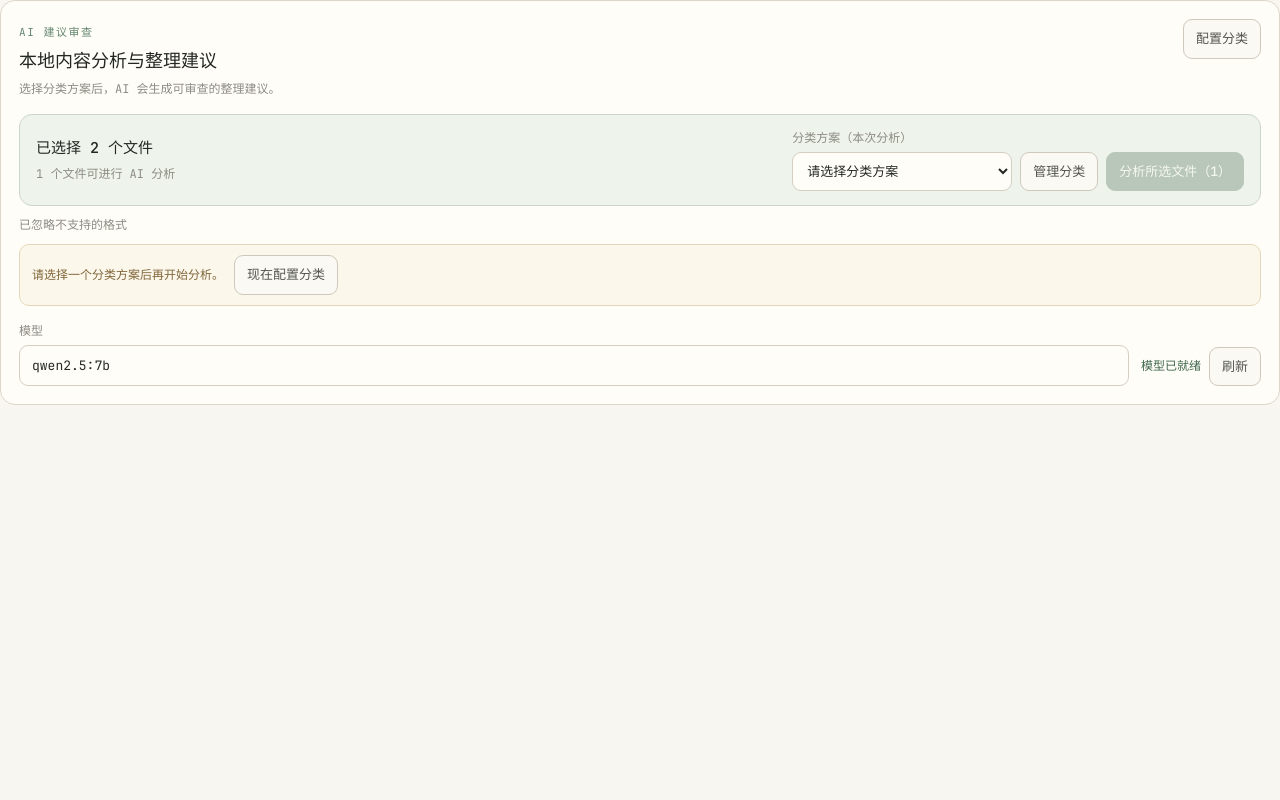
Test: opens category configuration from the missing-category guidance
Expected: the text "模型已就绪" is shown, [1141,357,1201,375]
Expected: the button "分析所选文件（1）" is disabled, [1106,152,1244,191]
Step 1. Click the button "现在配置分类" → (286, 275), box [234,255,338,294]
(page scrolled)
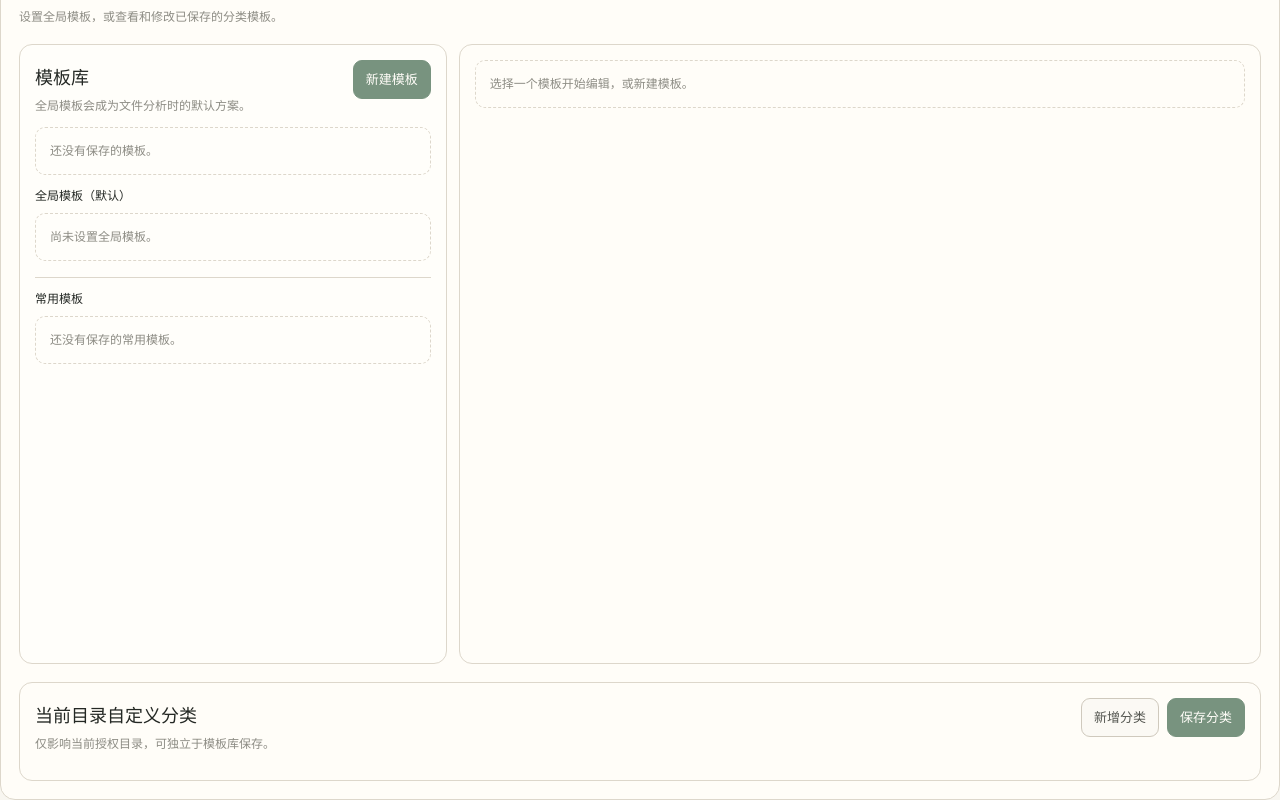
Now the button "保存分类" is shown, box [1167,698,1245,737]
